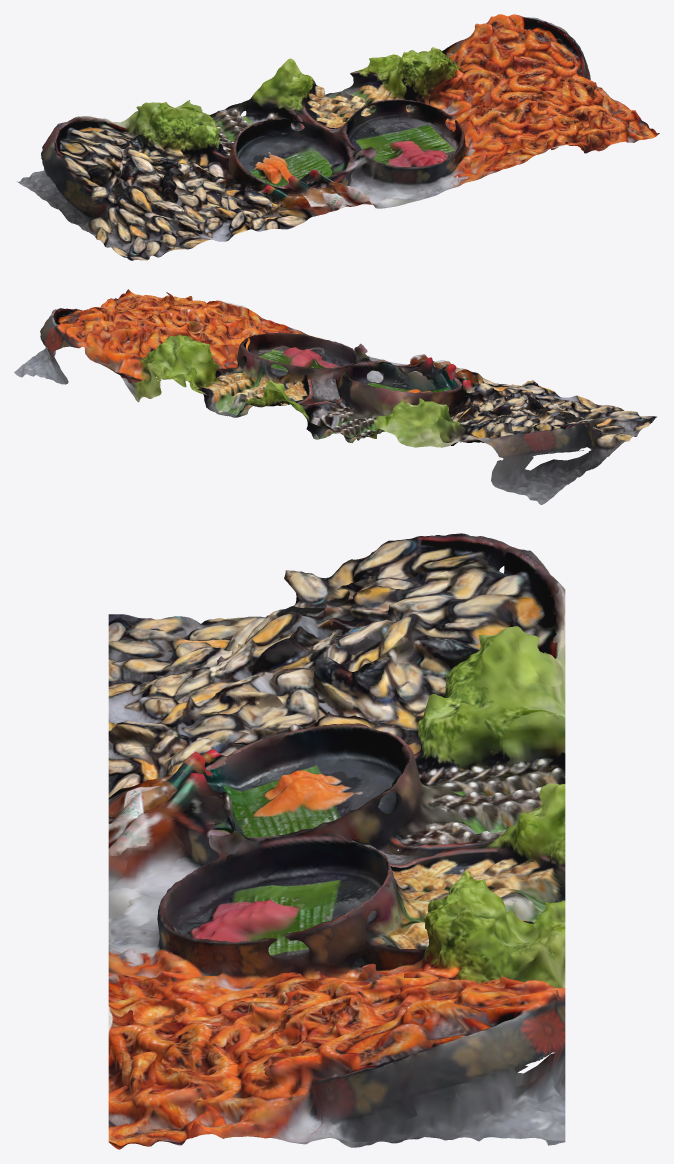
Rendered from seafood_platter_scaniverse.glb.
3 renders of one model, top to bottom at view 1: azimuth 30°, elevation 25°; view 2: azimuth 150°, elevation 25°; view 3: azimuth 270°, elevation 25°, orthographic. The views are drawn at different scales.
Parts seen in each view (by area): view 1: mesh_main_0 (×3); view 2: mesh_main_0 (×3); view 3: mesh_main_0 (×3).
Part boxes in pixels (box(x1,y1,x2,y2)): mesh_main_0 (×3): box(16, 14, 659, 260); mesh_main_0 (×3): box(14, 289, 656, 504); mesh_main_0 (×3): box(108, 533, 565, 1149).
Bounding box in the file's own units: 1.45 × 0.1742 × 0.5389.
1 material, 1 textured.
